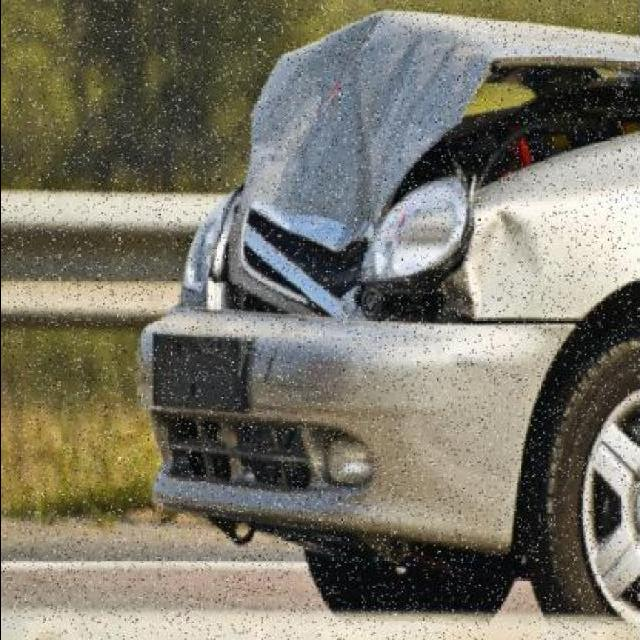bonnet-dent: (218, 8, 471, 307)
fender-dent: (452, 156, 639, 390)
